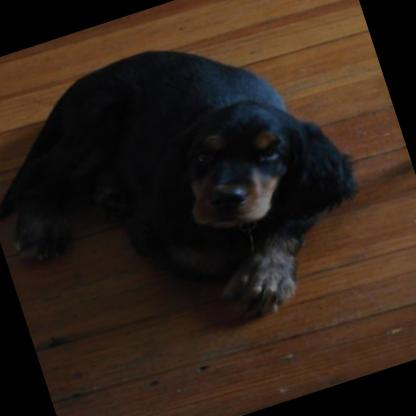Gordon_setter: (0, 0, 385, 384)
